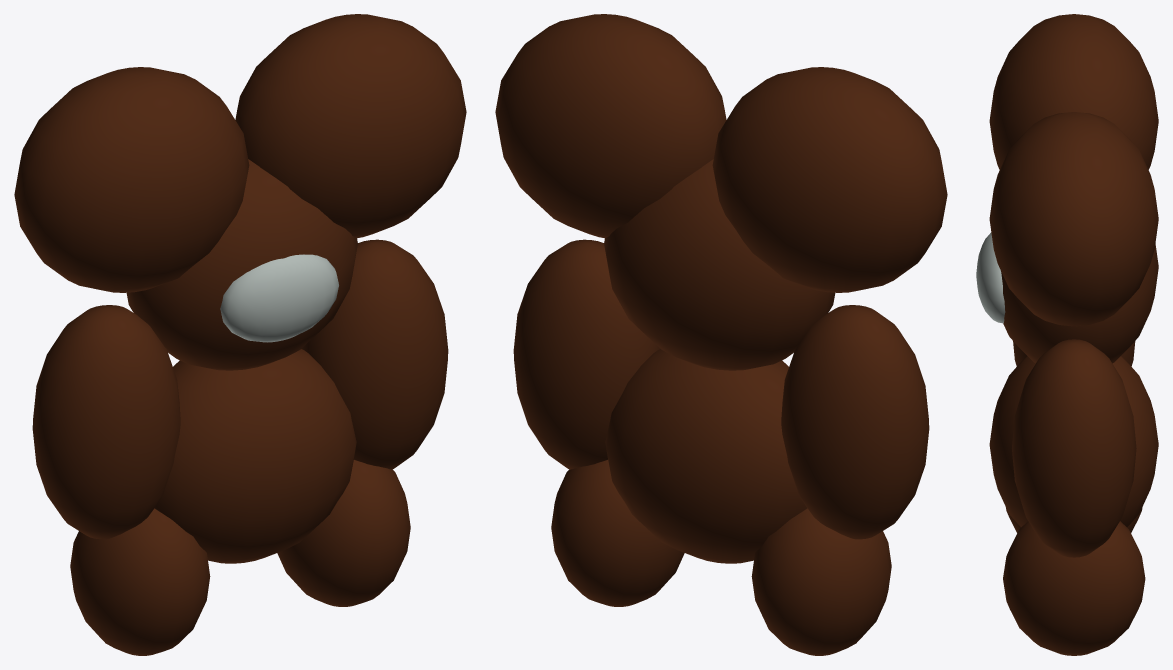
Rendered from TeddyToy.fbx.
3 views of the same model, side by side, from view 1: azimuth 30°, elevation 25°; view 2: azimuth 150°, elevation 25°; view 3: azimuth 270°, elevation 25° (orthographic). The views are drawn at different scales.
Parts seen in each view (by area): view 1: TeddyToy; view 2: TeddyToy; view 3: TeddyToy.
Part boxes in pixels (x1,y1,x2,y2): TeddyToy: [14, 14, 466, 655]; TeddyToy: [495, 14, 947, 655]; TeddyToy: [976, 14, 1158, 655].
Bounding box in the file's own units: 52 × 20.5 × 66.
